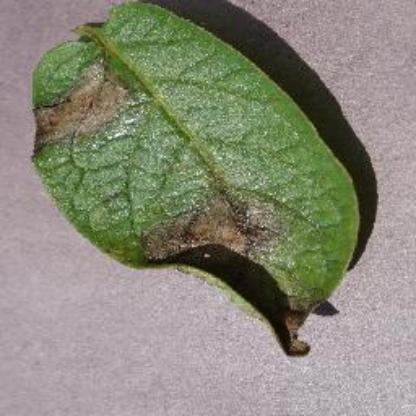Late-Blight: (25, 1, 370, 371)
